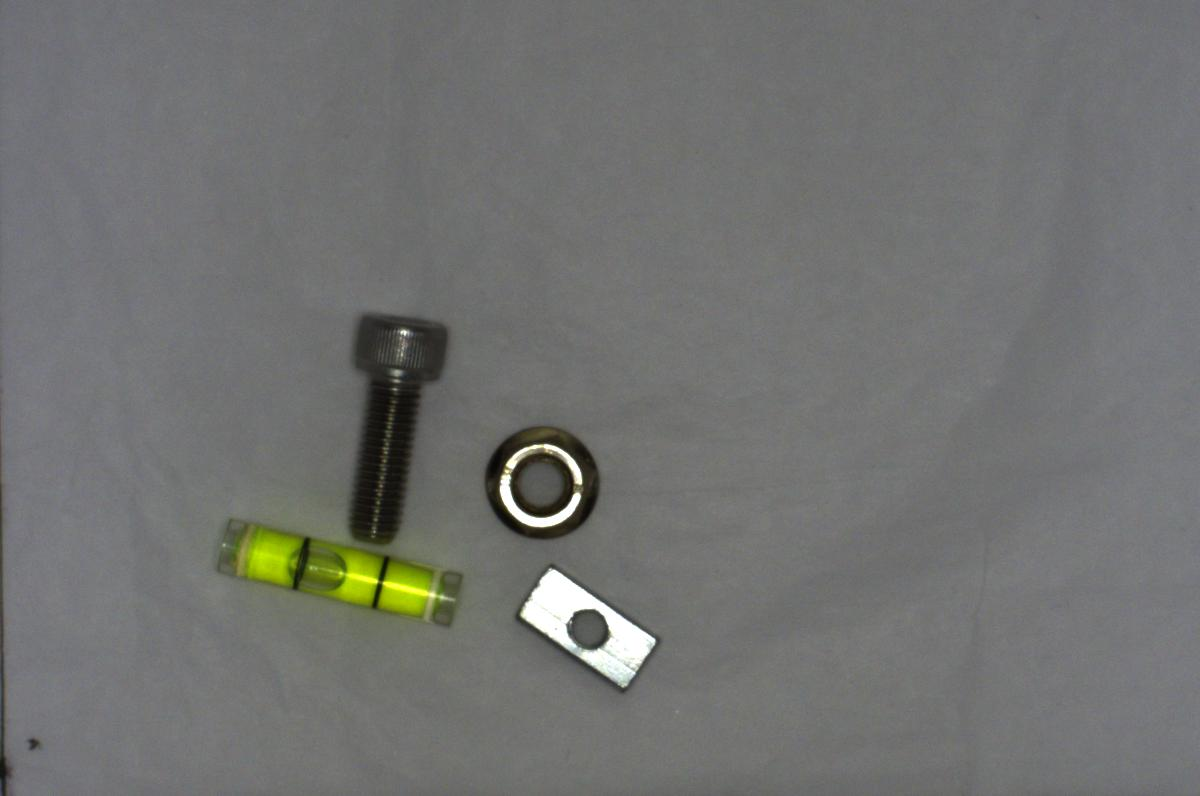Flange nut: (470, 418, 611, 546)
Hexagon screw: (335, 302, 445, 545)
Horizontal bubble: (206, 514, 465, 628)
Rectangular nut: (517, 559, 659, 692)
